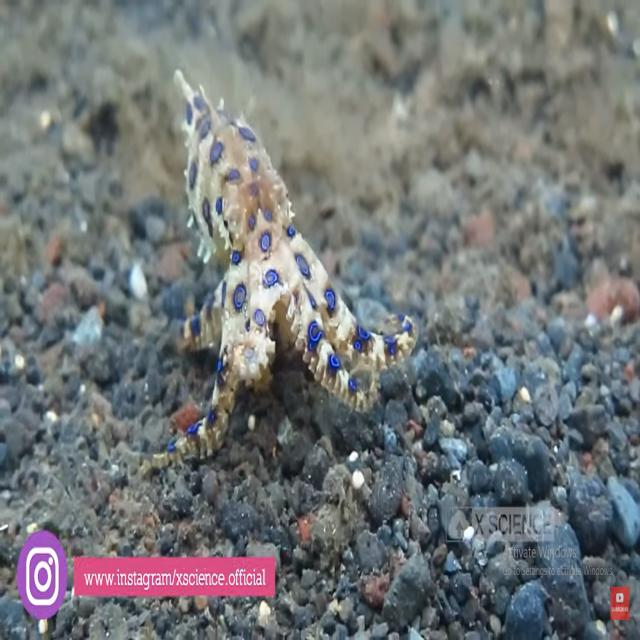blue_ringed_octopus: (120, 66, 418, 478)
